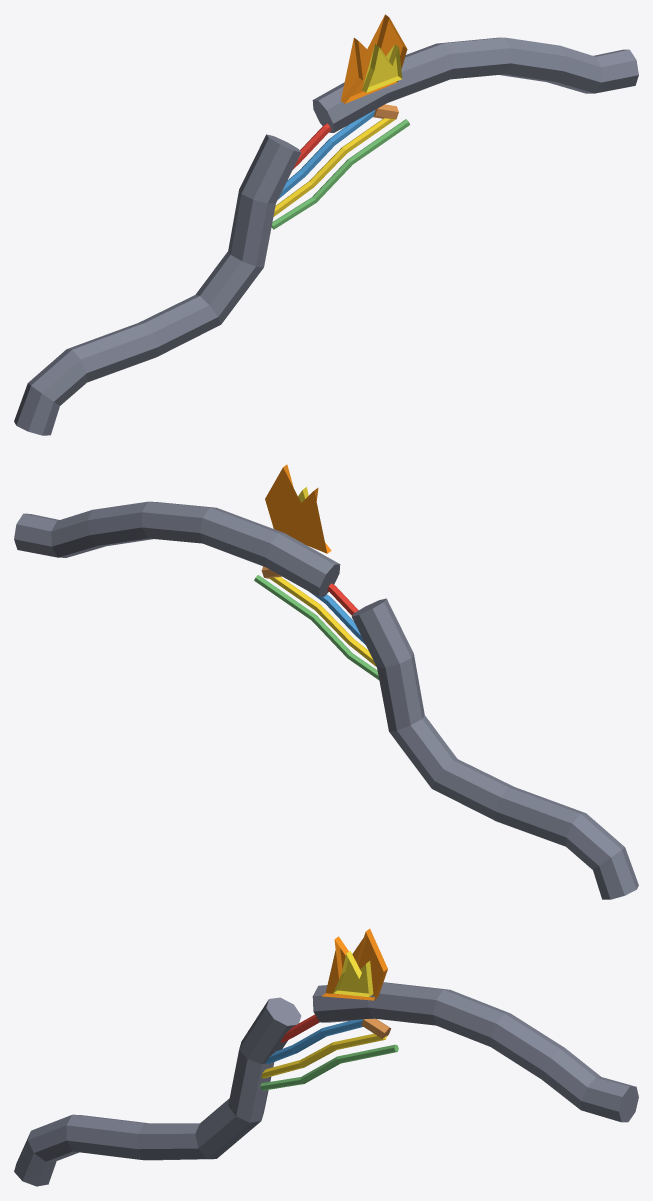
Rendered from cableRoto.fbx.
3 views of the same model, one above another, from view 1: azimuth 30°, elevation 25°; view 2: azimuth 150°, elevation 25°; view 3: azimuth 330°, elevation 25° (orthographic).
Visible parts, largest first — view 1: Cable_Roto; view 2: Cable_Roto; view 3: Cable_Roto.
Boxes of the visible parts, x1=… form: Cable_Roto: x1=14, y1=14, x2=638, y2=435; Cable_Roto: x1=14, y1=464, x2=638, y2=899; Cable_Roto: x1=14, y1=928, x2=638, y2=1186.
Bounding box in the file's own units: 373 × 199 × 28.
